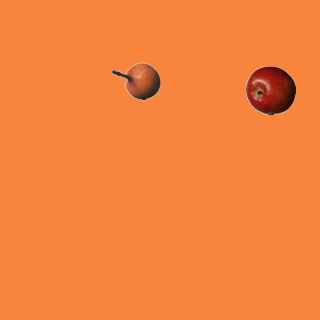Apple Braeburn: (245, 65, 295, 115)
Granadilla: (110, 56, 160, 106)
